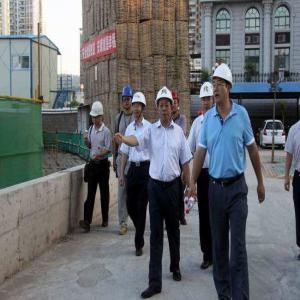blue: (122, 86, 134, 111)
red: (171, 91, 180, 115)
white: (212, 65, 232, 105), (157, 87, 174, 124), (200, 82, 215, 112), (132, 91, 147, 120), (90, 103, 105, 127)
